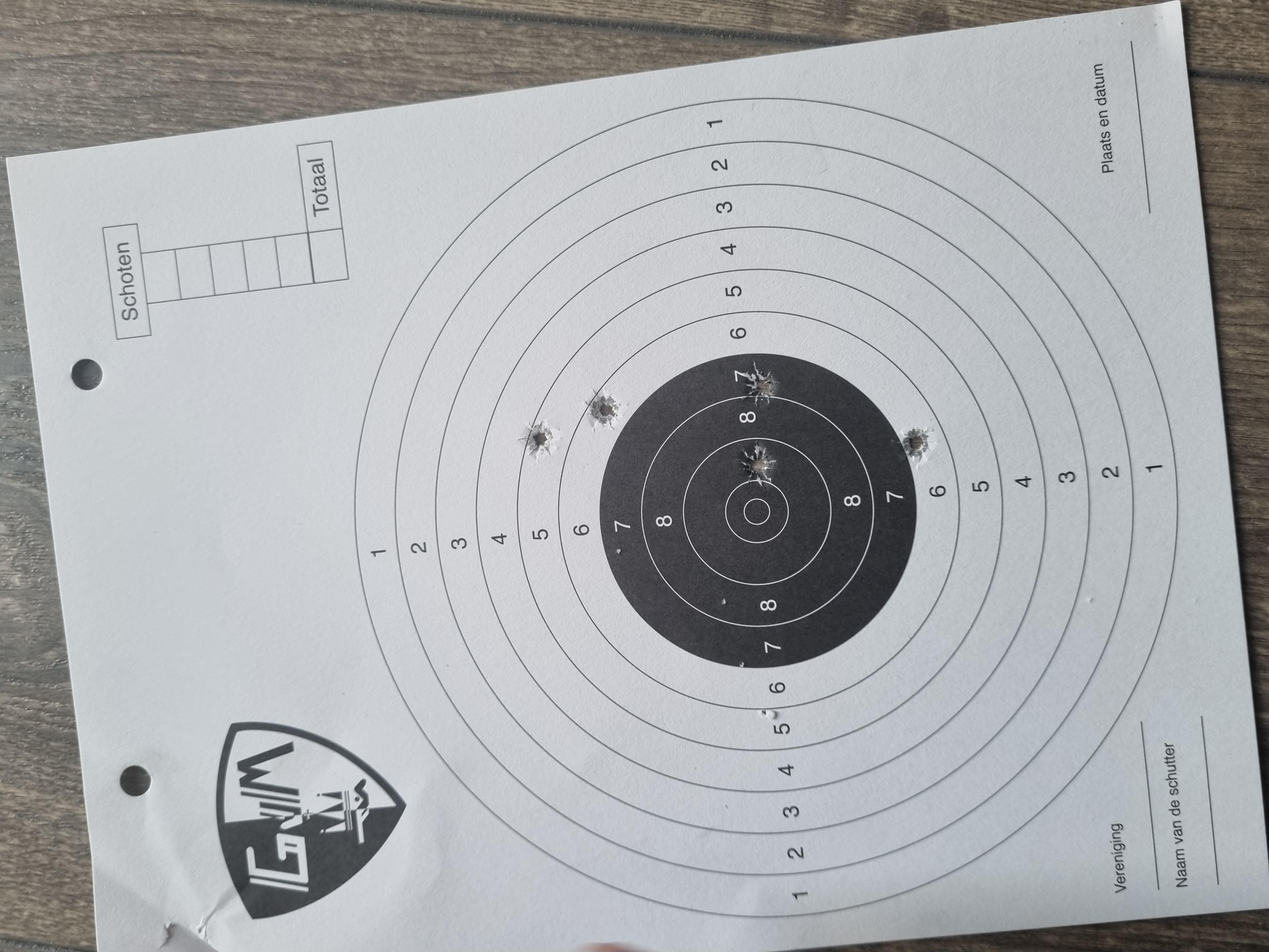hole: (617, 555, 681, 583), (728, 555, 787, 584), (695, 438, 753, 465), (645, 676, 700, 698), (657, 393, 707, 414)
